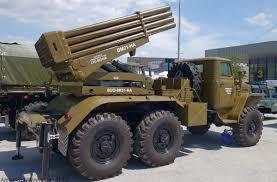MIL_SAM_TEL: (23, 7, 263, 176)
